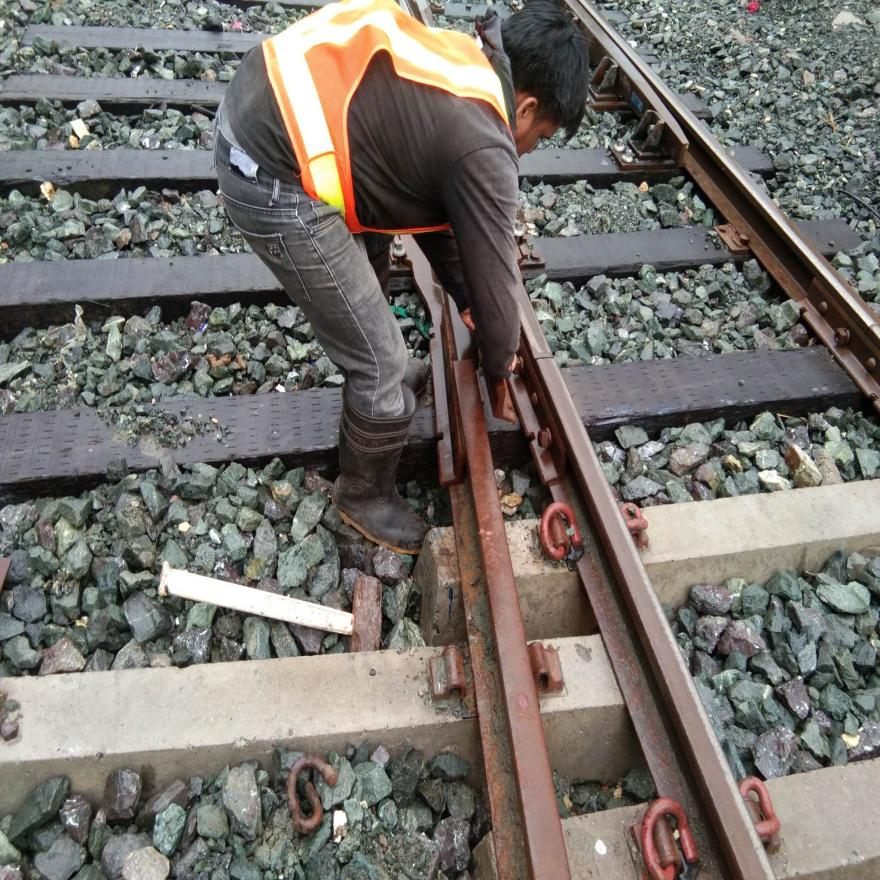railway-gap: (524, 331, 568, 390)
